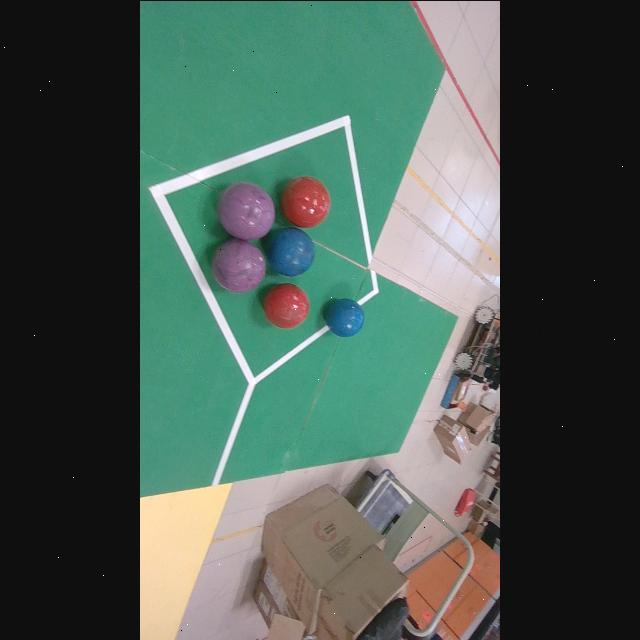B: (268, 226, 315, 275), (325, 298, 364, 337)
P: (218, 182, 275, 240), (212, 237, 266, 291)
R: (281, 176, 330, 227), (264, 283, 310, 328)
